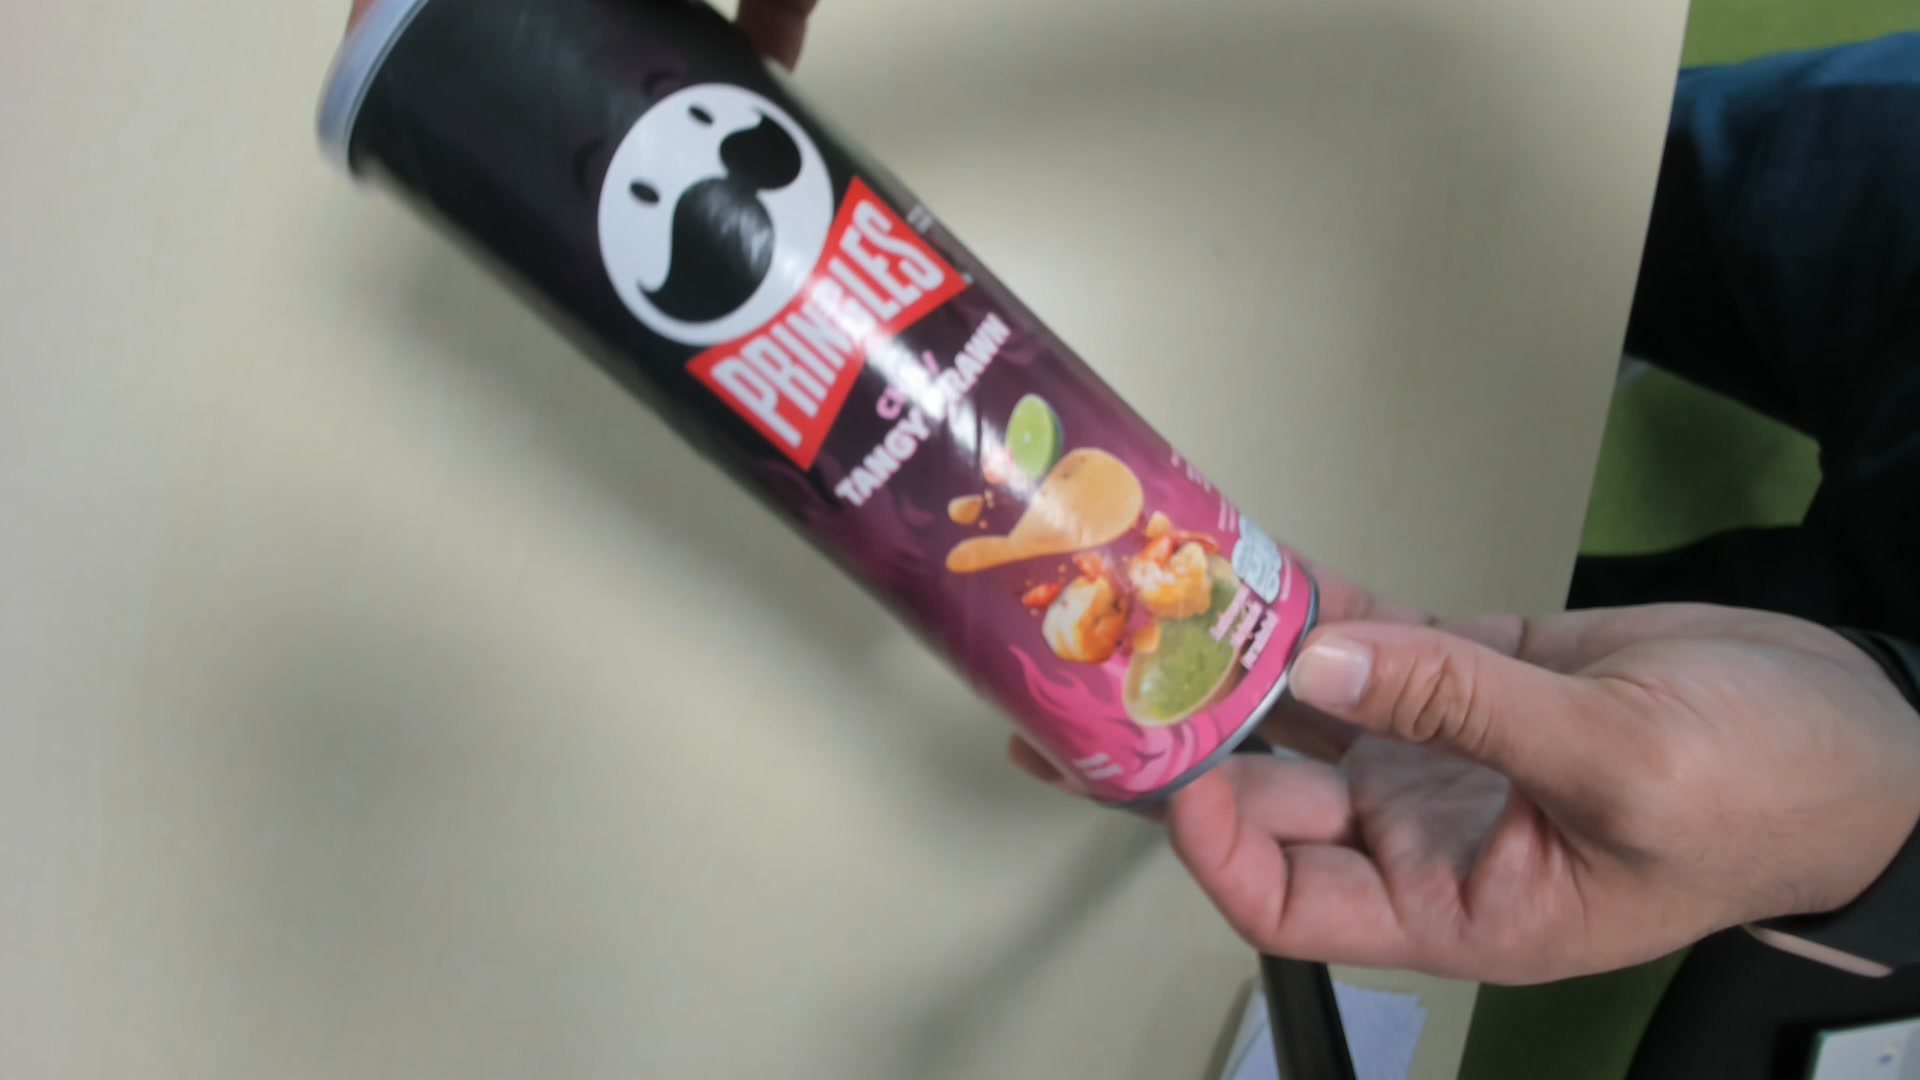PotatoChipsKeropok_0-99g_NonHalal_NonHealthy: (302, 7, 1331, 822)
